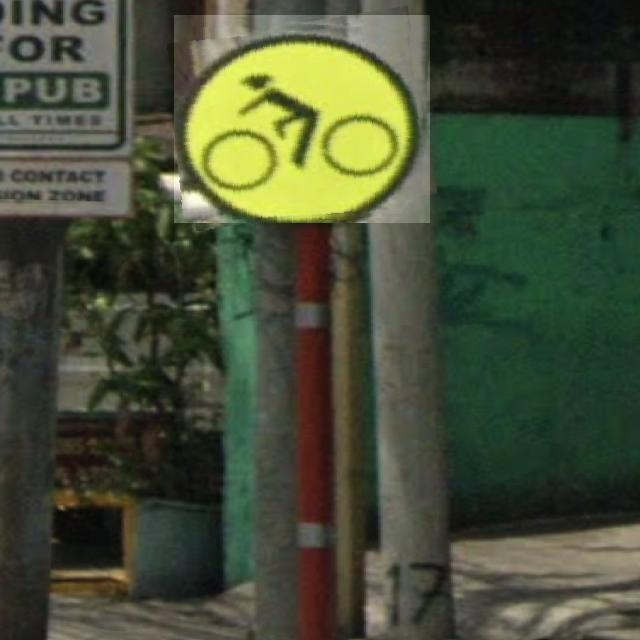bike lane: (174, 15, 430, 223)
